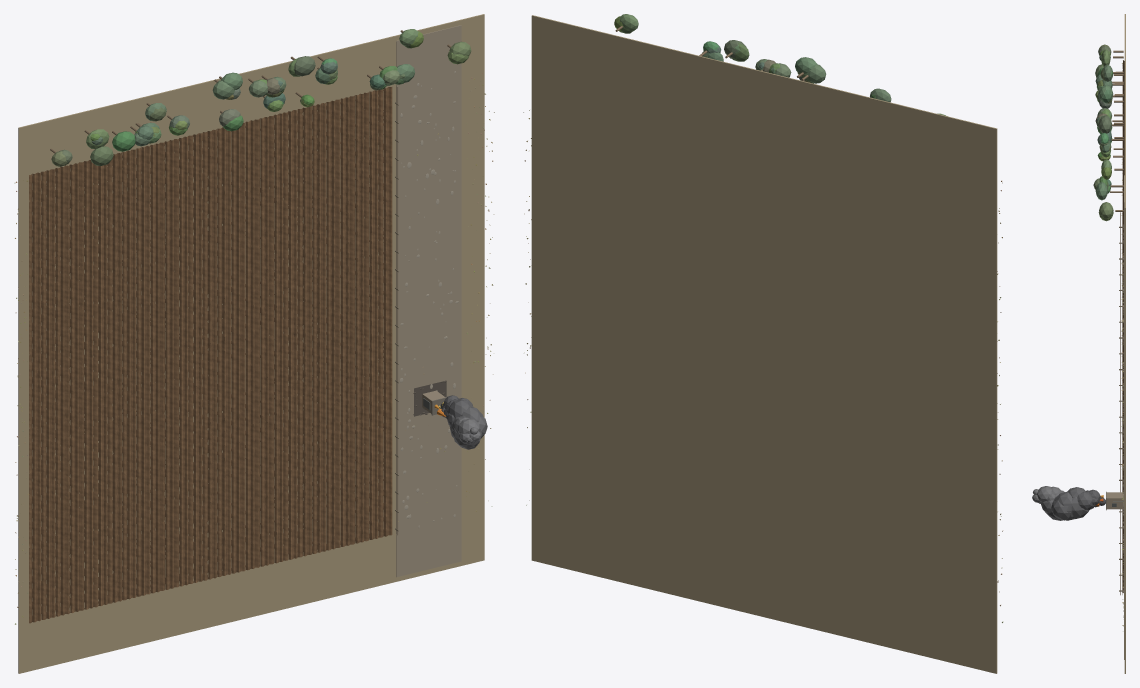
Rendered from plowed_farm_field_replica.glb.
The picture shows the model from 3 angles, left to right: view 1: azimuth 30°, elevation 25°; view 2: azimuth 150°, elevation 25°; view 3: azimuth 270°, elevation 25°; orthographic projection. The views are drawn at different scales.
Visible parts, largest first — view 1: Detailed plowed soil with parallel furrows, Underlying dry ground, Dirt access track, Fence rail 1.08; view 2: Underlying dry ground; view 3: Underlying dry ground, Detailed plowed soil with parallel furrows, Dirt access track, Fence rail 1.08, Fence rail 0.62, Rusty agricultural pump cabinet, Black smoke volume 23, Black smoke volume 19, Black smoke volume 12, Black smoke volume 15, Tree canopy 2-1, Tree canopy 16-1 (+2 smaller).
Part boxes in pixels (x1,y1,x2,y2): Detailed plowed soil with parallel furrows: (29,87,392,623); Underlying dry ground: (18,14,484,673); Dirt access track: (396,25,461,577); Fence rail 1.08: (397,87,398,535); Underlying dry ground: (531,15,997,673); Underlying dry ground: (1124,14,1125,673); Detailed plowed soil with parallel furrows: (1122,60,1124,592); Dirt access track: (1124,175,1124,659); Fence rail 1.08: (1120,212,1120,595); Fence rail 0.62: (1122,212,1122,594); Rusty agricultural pump cabinet: (1106,492,1123,509); Black smoke volume 23: (1051,500,1071,520); Black smoke volume 19: (1054,492,1074,520); Black smoke volume 12: (1077,492,1092,509); Black smoke volume 15: (1071,497,1088,518); Tree canopy 2-1: (1098,115,1111,133); Tree canopy 16-1: (1099,202,1113,218).
Size of the model in its own units: 103 by 115 by 20.45.
